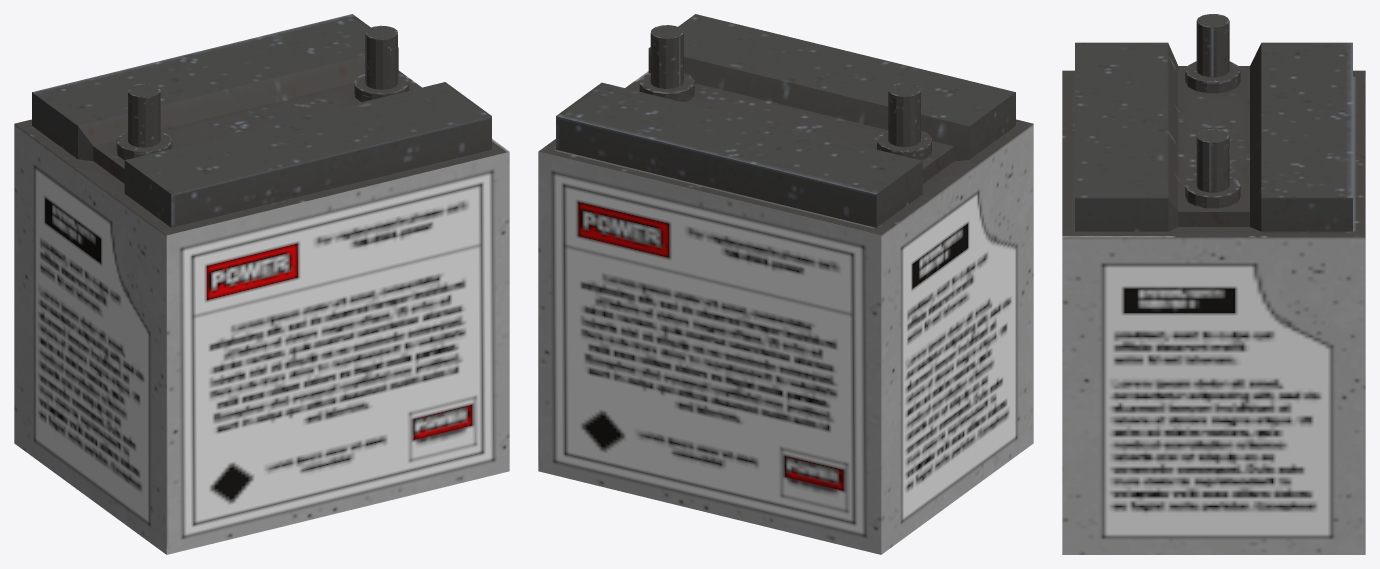
The model's file is Battery.fbx.
3 views of the same model, side by side, from view 1: azimuth 30°, elevation 25°; view 2: azimuth 150°, elevation 25°; view 3: azimuth 270°, elevation 25° (orthographic).
Visible parts, largest first — view 1: Battery; view 2: Battery; view 3: Battery.
Boxes of the visible parts, x1,y1,x2,y2 form: Battery: (14,14,509,554); Battery: (538,14,1033,554); Battery: (1062,14,1365,554).
Bounding box in the file's own units: 0.5474 × 0.6035 × 0.4217.
Materials: 1 (1 with a texture image).
